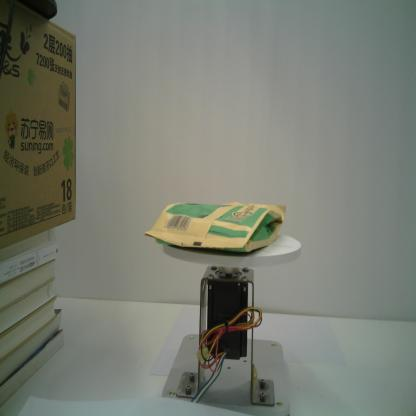Dried Food: (145, 201, 286, 253)
